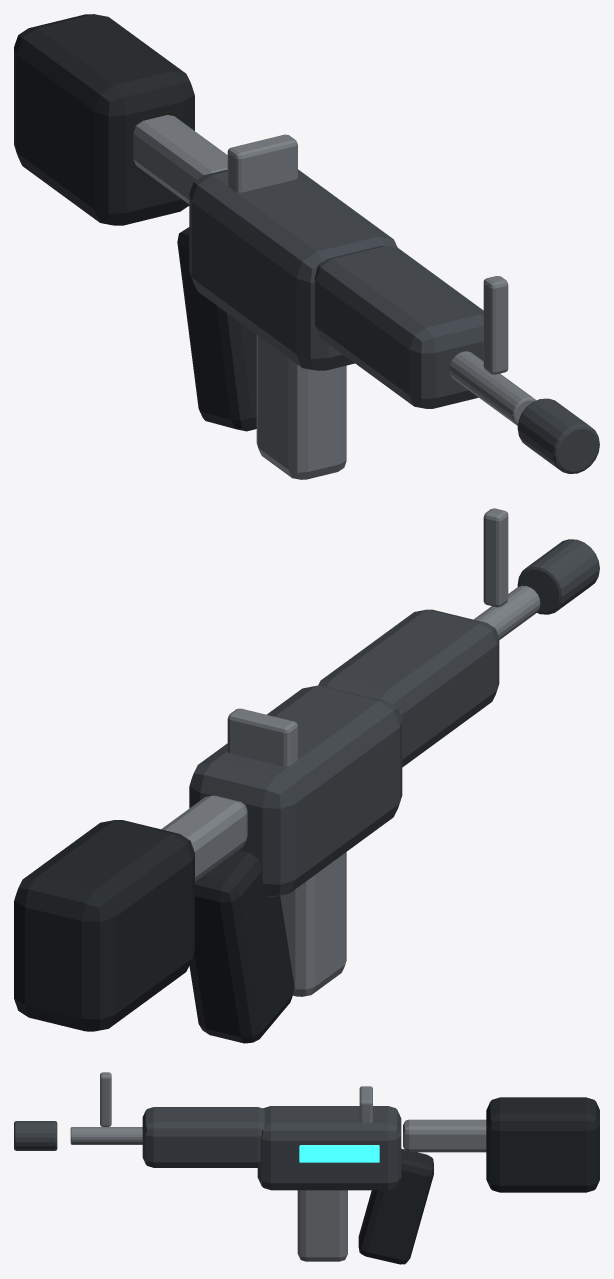
3 renders of one model, top to bottom at view 1: azimuth 30°, elevation 25°; view 2: azimuth 150°, elevation 25°; view 3: azimuth 270°, elevation 25°, orthographic. The views are drawn at different scales.
Parts seen in each view (by area): view 1: Adjustable stock.003, Receiver.004, Upper handguard.004, Magazine.004, Pistol grip.004, Buffer tube.003, Muzzle brake.004, Rear sight.002, Barrel.004, Front sight.002; view 2: Adjustable stock.003, Receiver.004, Pistol grip.004, Upper handguard.004, Magazine.004, Buffer tube.003, Muzzle brake.004, Rear sight.002, Front sight.002, Barrel.004; view 3: Adjustable stock.003, Receiver.004, Upper handguard.004, Pistol grip.004, Magazine.004, Buffer tube.003, Aurora serial plate.004, Muzzle brake.004, Barrel.004, Front sight.002, Rear sight.002.
Boxes of the visible parts, <box> form: Adjustable stock.003: <box>14,14,194,225</box>; Receiver.004: <box>189,169,397,370</box>; Upper handguard.004: <box>314,246,483,408</box>; Magazine.004: <box>256,335,346,479</box>; Pistol grip.004: <box>177,227,256,431</box>; Buffer tube.003: <box>133,115,227,204</box>; Muzzle brake.004: <box>517,398,599,473</box>; Rear sight.002: <box>227,134,297,192</box>; Barrel.004: <box>449,351,536,425</box>; Front sight.002: <box>483,276,508,374</box>; Adjustable stock.003: <box>14,820,194,1031</box>; Receiver.004: <box>189,685,402,896</box>; Pistol grip.004: <box>189,850,294,1043</box>; Upper handguard.004: <box>318,609,499,767</box>; Magazine.004: <box>280,852,346,996</box>; Buffer tube.003: <box>161,795,247,881</box>; Muzzle brake.004: <box>517,539,599,614</box>; Rear sight.002: <box>227,708,297,766</box>; Front sight.002: <box>483,508,508,607</box>; Barrel.004: <box>474,585,540,639</box>; Adjustable stock.003: <box>486,1097,599,1192</box>; Receiver.004: <box>257,1106,401,1190</box>; Upper handguard.004: <box>142,1107,264,1167</box>; Pistol grip.004: <box>358,1148,433,1264</box>; Magazine.004: <box>297,1190,347,1261</box>; Buffer tube.003: <box>403,1119,486,1152</box>; Aurora serial plate.004: <box>299,1145,379,1162</box>; Muzzle brake.004: <box>14,1121,57,1150</box>; Barrel.004: <box>70,1127,142,1144</box>; Front sight.002: <box>100,1072,111,1126</box>; Rear sight.002: <box>359,1086,372,1123</box>.
Bounding box in the file's own units: 0.212 × 0.613 × 1.75.
